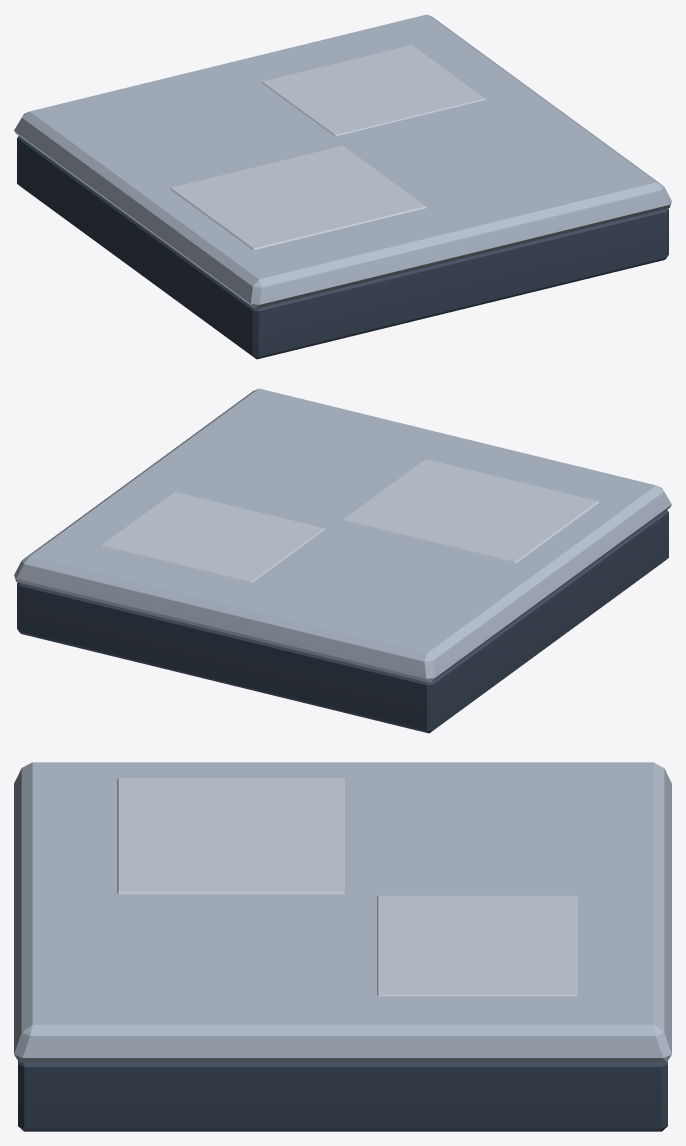
File: snow.glb
3 renders of one model, top to bottom at view 1: azimuth 30°, elevation 25°; view 2: azimuth 150°, elevation 25°; view 3: azimuth 270°, elevation 25°, orthographic. The views are drawn at different scales.
Parts seen in each view (by area): view 1: snow; view 2: snow; view 3: snow.
Boxes of the visible parts, x1,y1,x2,y2 form: snow: (14, 14, 671, 359); snow: (14, 388, 671, 733); snow: (14, 762, 671, 1131).
Size of the model in its own units: 1.47 by 0.259 by 1.47.
